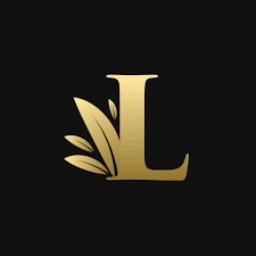l: (50, 50, 214, 208)
